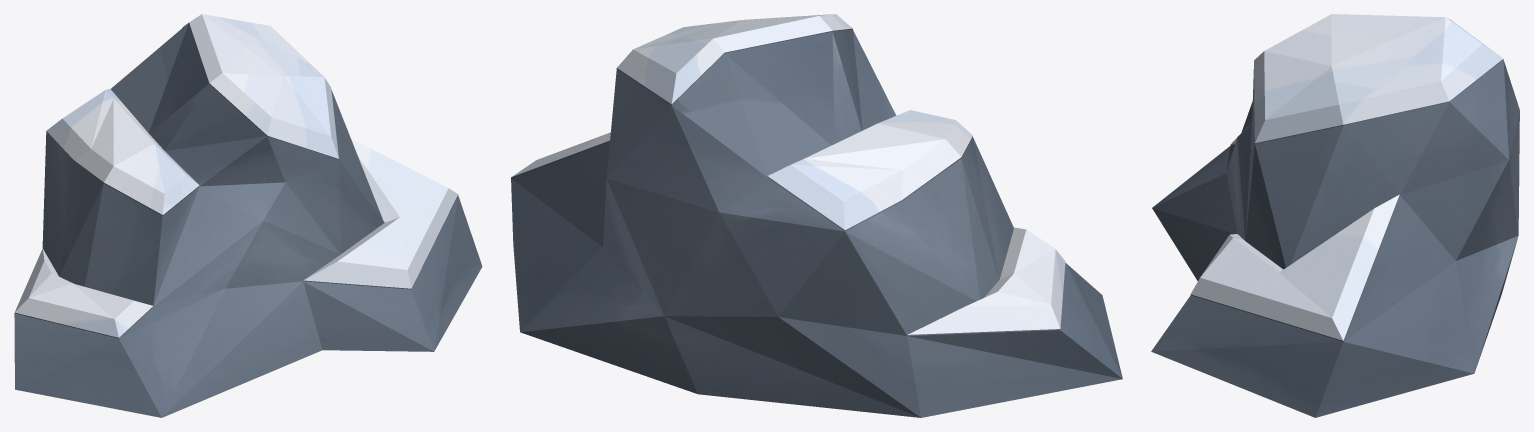
The model's file is Rock_2.fbx.
The picture shows the model from 3 angles, left to right: view 1: azimuth 30°, elevation 25°; view 2: azimuth 150°, elevation 25°; view 3: azimuth 270°, elevation 25°; orthographic projection. The views are drawn at different scales.
Parts seen in each view (by area): view 1: Rock02; view 2: Rock02; view 3: Rock02.
Boxes of the visible parts, <box> form: Rock02: <box>14,14,482,417</box>; Rock02: <box>511,14,1122,417</box>; Rock02: <box>1151,14,1519,417</box>.
Bounding box in the file's own units: 2.8 × 1.47 × 1.73.
